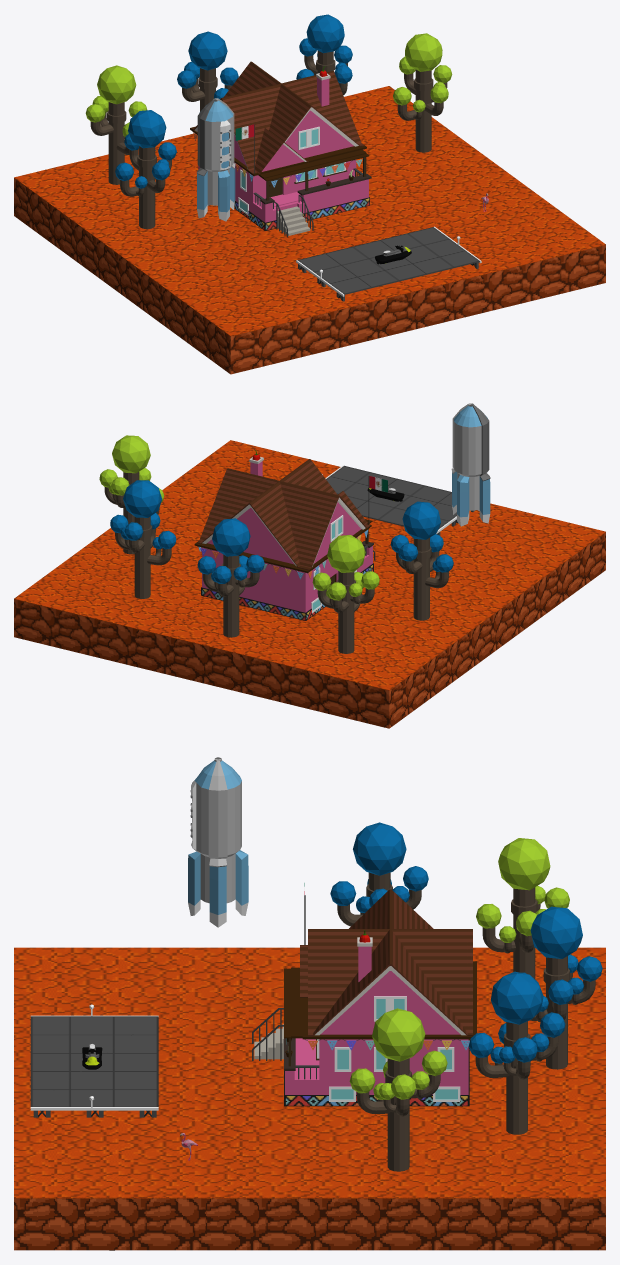
3 views of the same model, one above another, from view 1: azimuth 30°, elevation 25°; view 2: azimuth 150°, elevation 25°; view 3: azimuth 270°, elevation 25° (orthographic). The views are drawn at different scales.
Parts seen in each view (by area): view 1: Cube.001, Cube.1005, OBJRANDOM_ROCKETSHIP; view 2: Cube.001, Cube.1005, OBJRANDOM_ROCKETSHIP; view 3: Cube.001, Cube.1005, OBJRANDOM_ROCKETSHIP.
Part boxes in pixels (bbox=[...]): Cube.001: bbox=[14, 14, 605, 374]; Cube.1005: bbox=[190, 61, 371, 236]; OBJRANDOM_ROCKETSHIP: bbox=[196, 98, 235, 221]; Cube.001: bbox=[14, 435, 605, 728]; Cube.1005: bbox=[194, 449, 387, 620]; OBJRANDOM_ROCKETSHIP: bbox=[451, 403, 490, 526]; Cube.001: bbox=[14, 822, 605, 1250]; Cube.1005: bbox=[252, 883, 476, 1106]; OBJRANDOM_ROCKETSHIP: bbox=[188, 757, 248, 927].
Bounding box in the file's own units: 4000 × 2149 × 4000.
66 materials, 6 textured.
